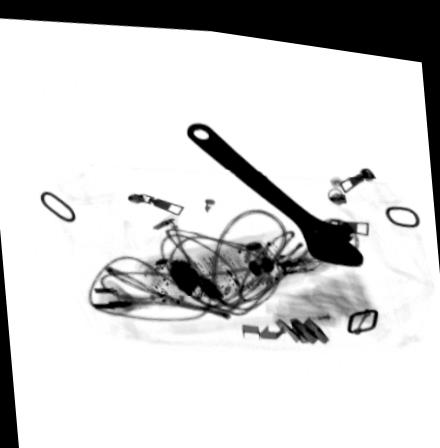Wrench: (185, 114, 365, 257)
